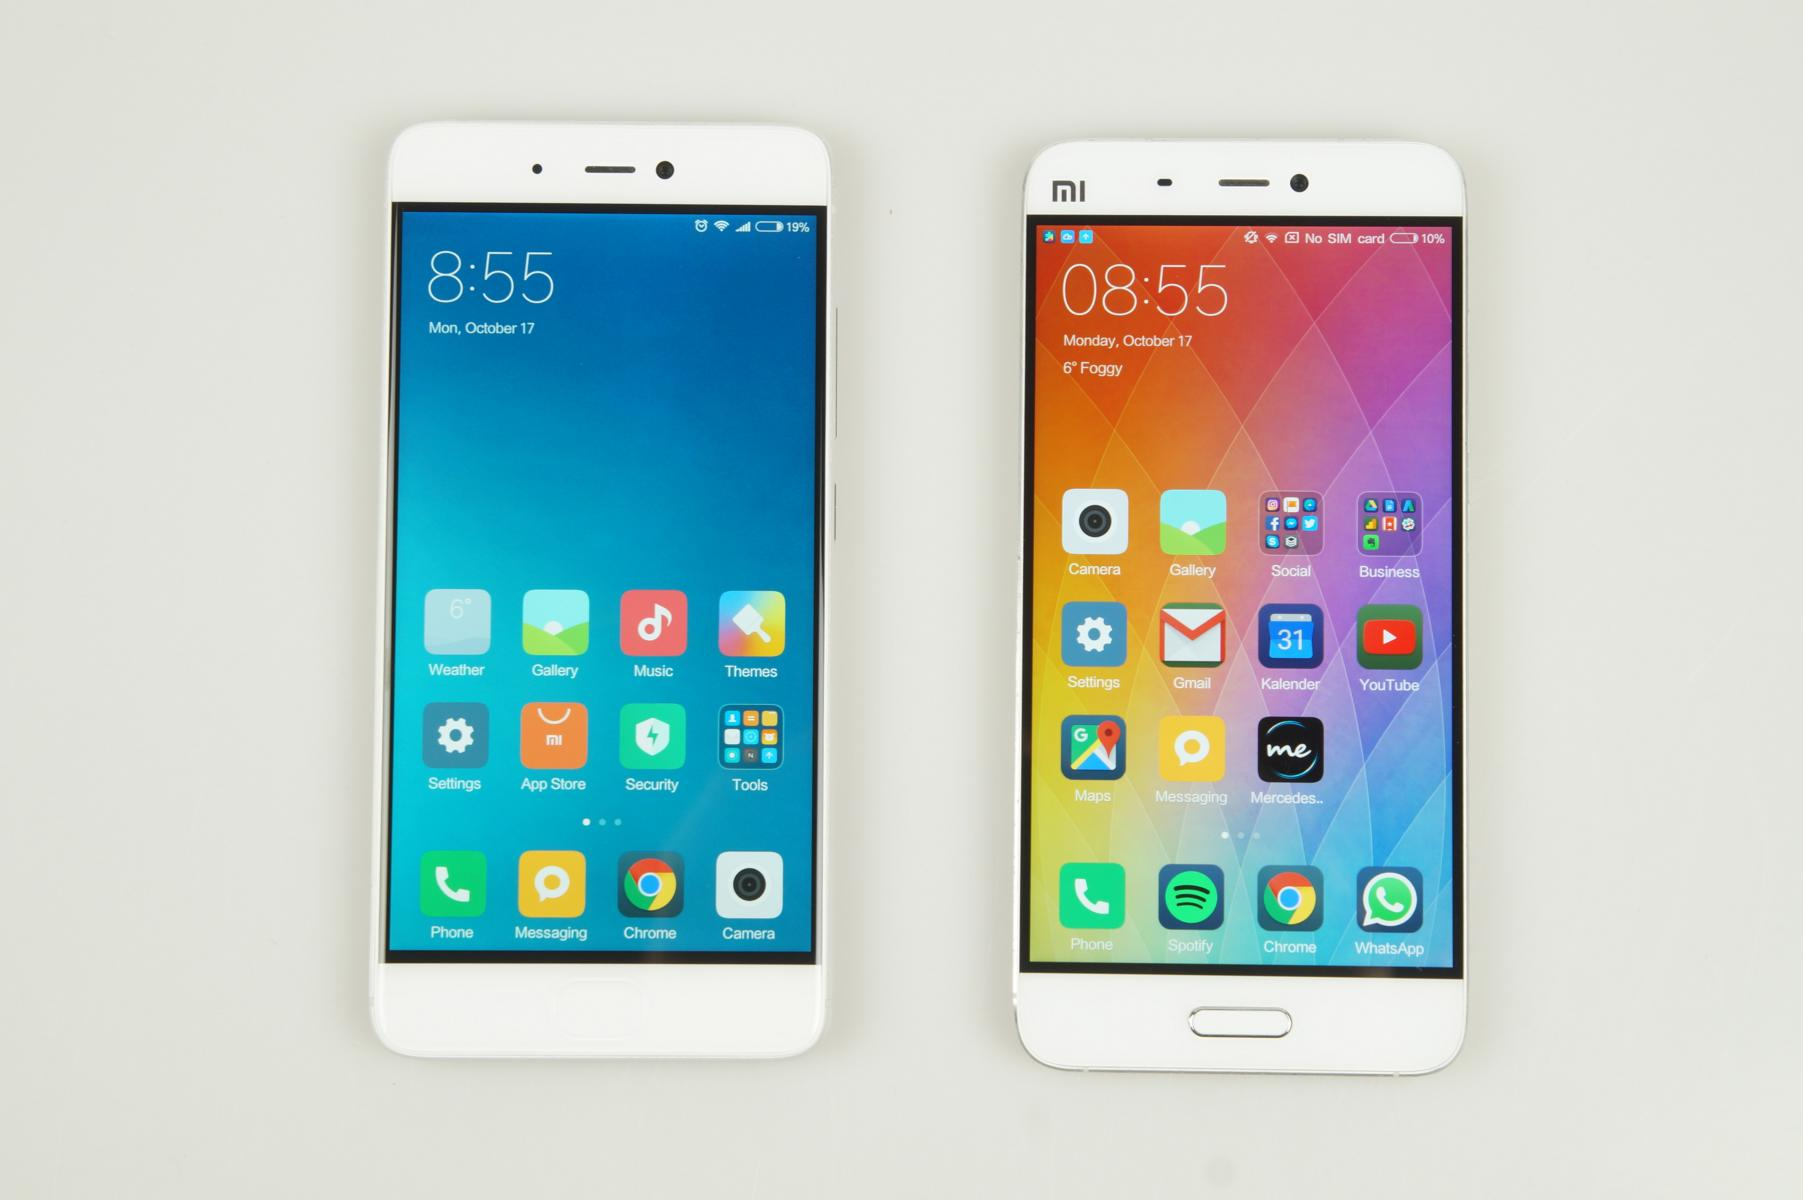smartphone: (368, 117, 841, 1059), (1013, 138, 1469, 1075)
